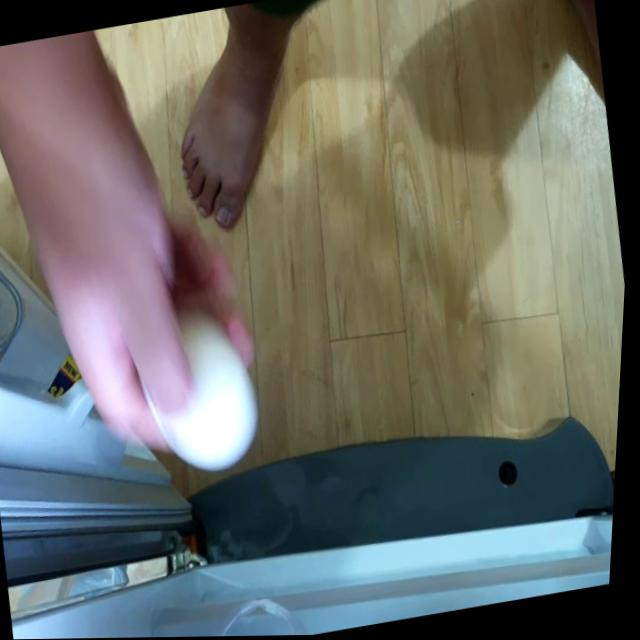egg: (140, 307, 270, 476)
